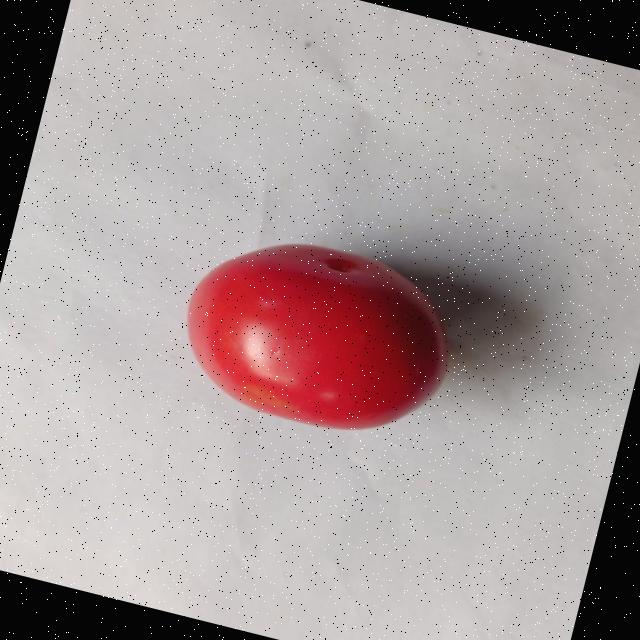Ripe: (157, 210, 477, 457)
